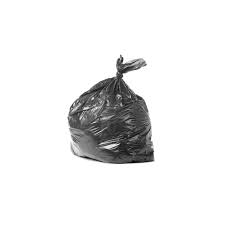Trash: (63, 51, 162, 169)
